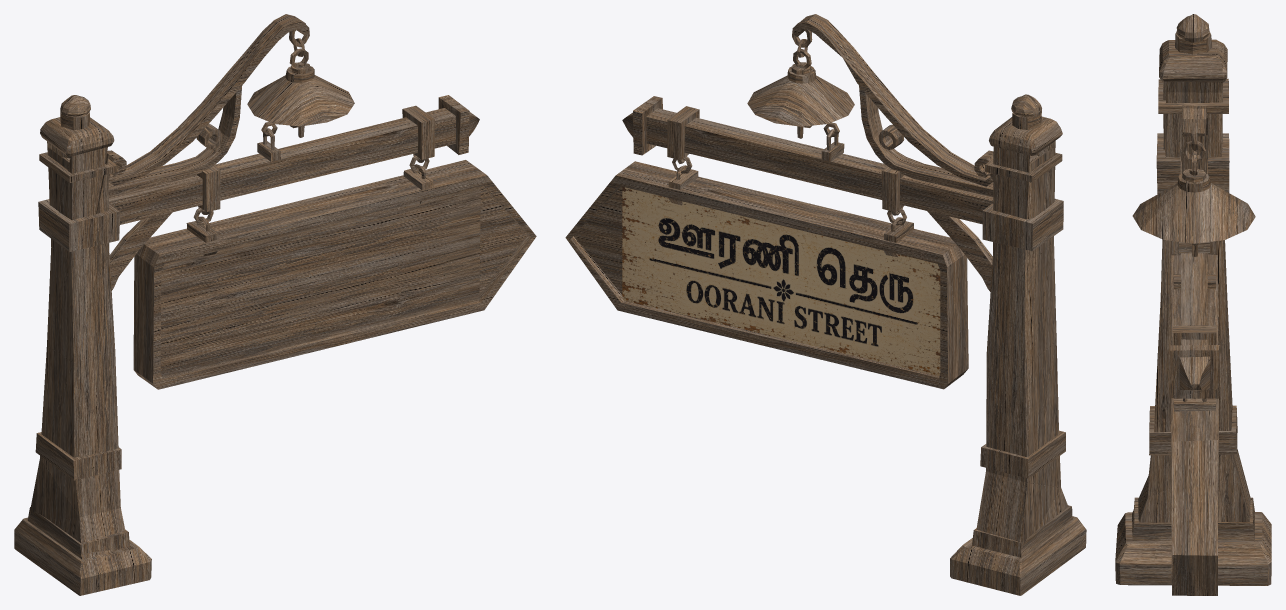
Rendered from Oorani_Street_All_Wood_Unity.fbx.
3 views of the same model, side by side, from view 1: azimuth 30°, elevation 25°; view 2: azimuth 150°, elevation 25°; view 3: azimuth 270°, elevation 25° (orthographic). The views are drawn at different scales.
Visible parts, largest first — view 1: Board with light; view 2: Board with light, face; view 3: Board with light.
Part boxes in pixels (<box>): Board with light: <box>14,14,536,595</box>; Board with light: <box>565,14,1086,595</box>; face: <box>622,186,940,376</box>; Board with light: <box>1115,14,1271,595</box>.
Size of the model in its own units: 1 by 0.9899 by 0.2439.
2 materials, 2 textured.
